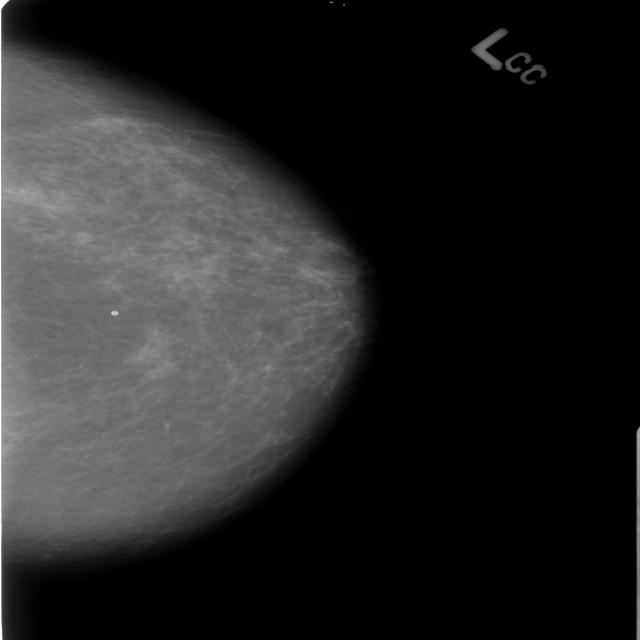normal: (0, 51, 398, 579)
